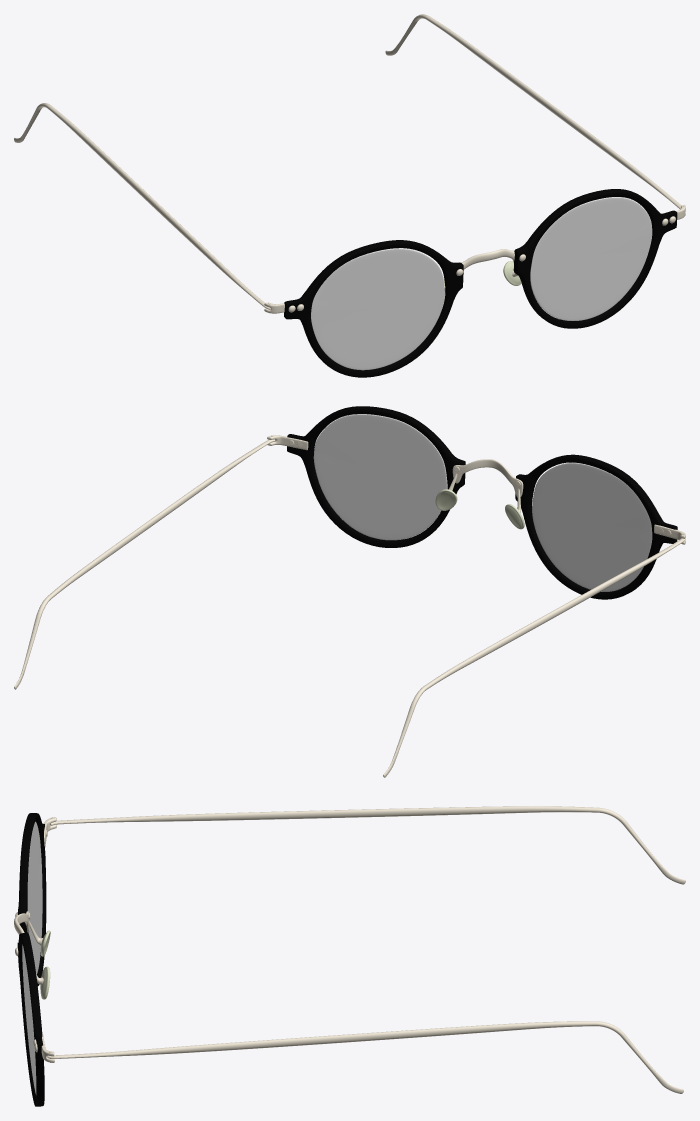
The model's file is Glasses.fbx.
3 renders of one model, top to bottom at view 1: azimuth 30°, elevation 25°; view 2: azimuth 150°, elevation 25°; view 3: azimuth 270°, elevation 25°, orthographic. The views are drawn at different scales.
Parts seen in each view (by area): view 1: Circle.004, Rodenstock R7061 A Eyeware, Circle.003; view 2: Circle.004, Rodenstock R7061 A Eyeware, Circle.003, Circle.005, Circle.001, Circle.002; view 3: Circle.003, Rodenstock R7061 A Eyeware, Circle.004, Circle.005.
Part boxes in pixels (box(x1,y1,x2,y2)): Circle.004: box(311, 197, 652, 370); Rodenstock R7061 A Eyeware: box(284, 189, 677, 377); Circle.003: box(14, 14, 685, 309); Circle.004: box(313, 414, 652, 591); Rodenstock R7061 A Eyeware: box(287, 406, 677, 599); Circle.003: box(14, 439, 685, 777); Circle.005: box(435, 473, 524, 529); Circle.001: box(452, 459, 523, 497); Circle.002: box(267, 435, 685, 544); Circle.003: box(47, 806, 685, 1093); Rodenstock R7061 A Eyeware: box(17, 813, 46, 1106); Circle.004: box(22, 821, 42, 1094); Circle.005: box(29, 921, 50, 999).
Size of the model in its own units: 177 by 54.66 by 215.
